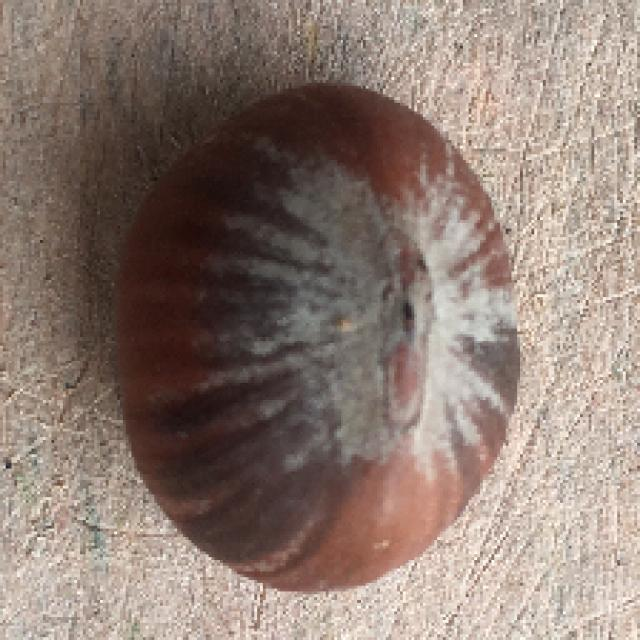damagedHazelnut: (101, 82, 526, 587)
